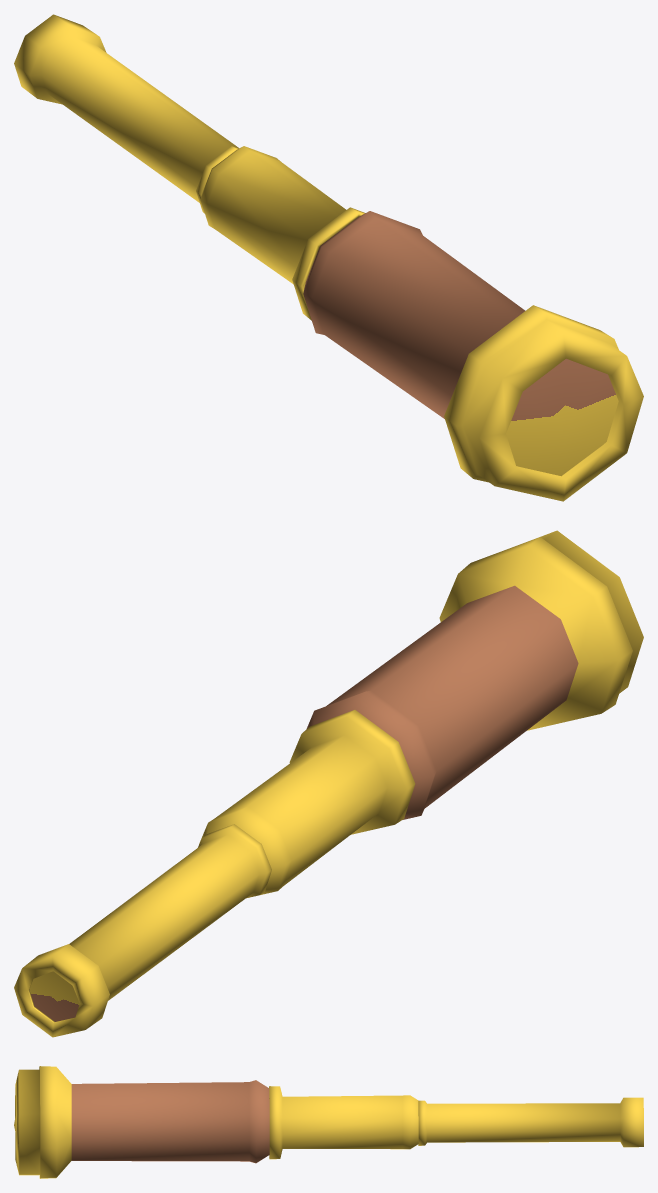
The model's file is spyglass.obj.
3 views of the same model, one above another, from view 1: azimuth 30°, elevation 25°; view 2: azimuth 150°, elevation 25°; view 3: azimuth 270°, elevation 25° (orthographic). The views are drawn at different scales.
Parts seen in each view (by area): view 1: Catalejo_Mesh.001, Plane001_Mesh.002; view 2: Catalejo_Mesh.001, Plane001_Mesh.002; view 3: Catalejo_Mesh.001.
Boxes of the visible parts, x1,y1,x2,y2 form: Catalejo_Mesh.001: (14, 14, 643, 501); Plane001_Mesh.002: (506, 358, 618, 476); Catalejo_Mesh.001: (14, 530, 643, 1037); Plane001_Mesh.002: (29, 971, 79, 1021); Catalejo_Mesh.001: (15, 1066, 643, 1178).
Bounding box in the file's own units: 0.6048 × 0.5928 × 3.
Materials: 1 (1 with a texture image).
